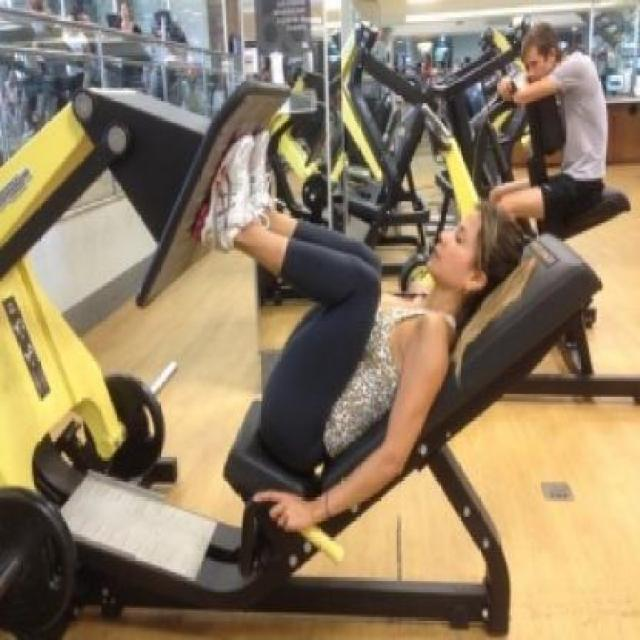leg press: (0, 44, 606, 640)
